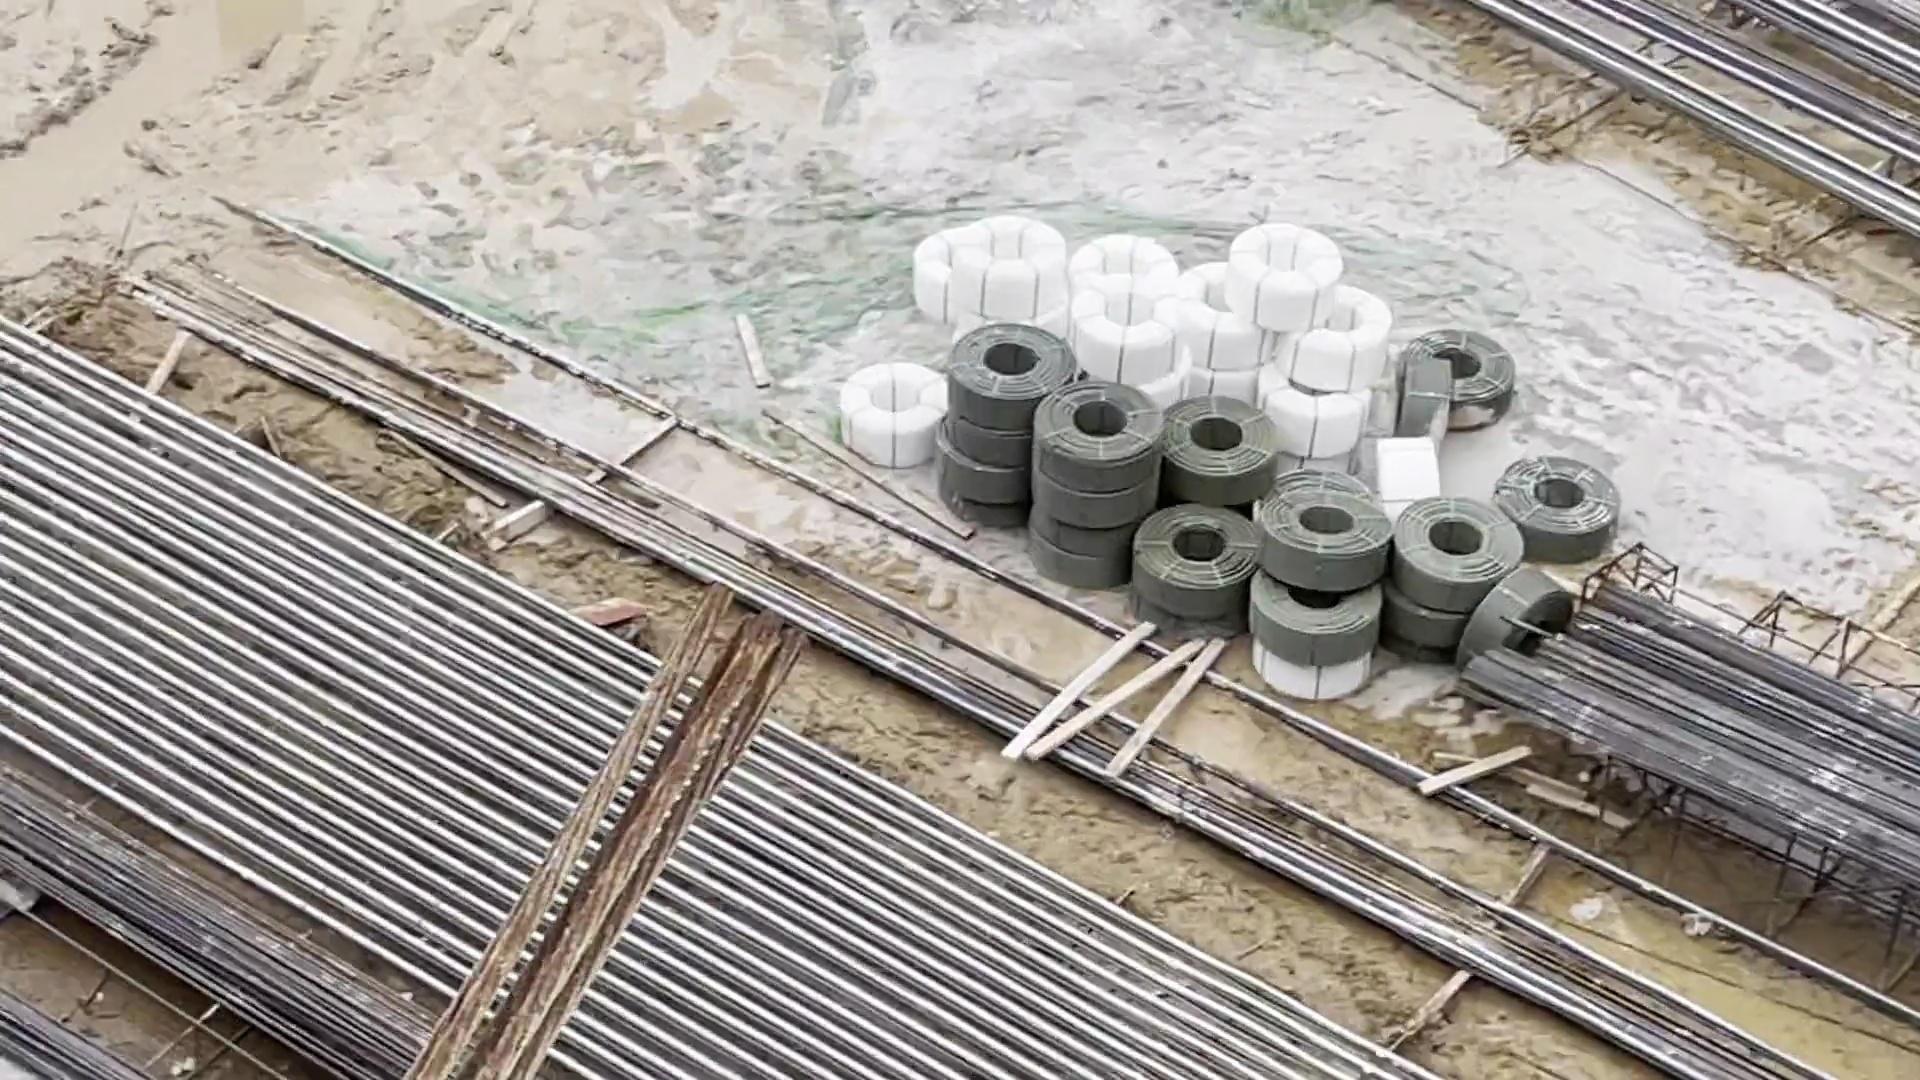rebar: (1458, 564, 1920, 866), (1, 789, 455, 1075)
